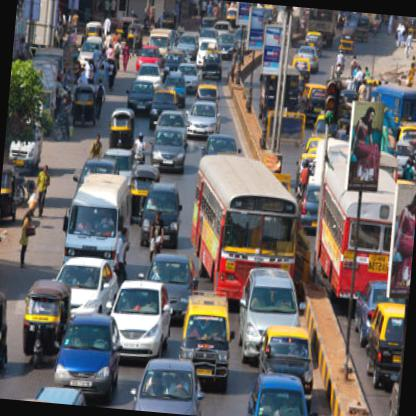bus: (186, 154, 304, 306), (315, 166, 396, 310), (234, 266, 304, 369), (51, 314, 122, 400), (178, 288, 235, 394), (109, 280, 174, 362), (52, 256, 122, 326), (132, 253, 200, 323), (127, 356, 209, 414), (257, 326, 317, 401), (363, 300, 408, 392), (244, 371, 322, 415), (140, 182, 182, 250), (150, 128, 186, 176), (184, 100, 222, 141), (125, 79, 156, 115), (176, 63, 200, 92), (138, 62, 165, 86)
